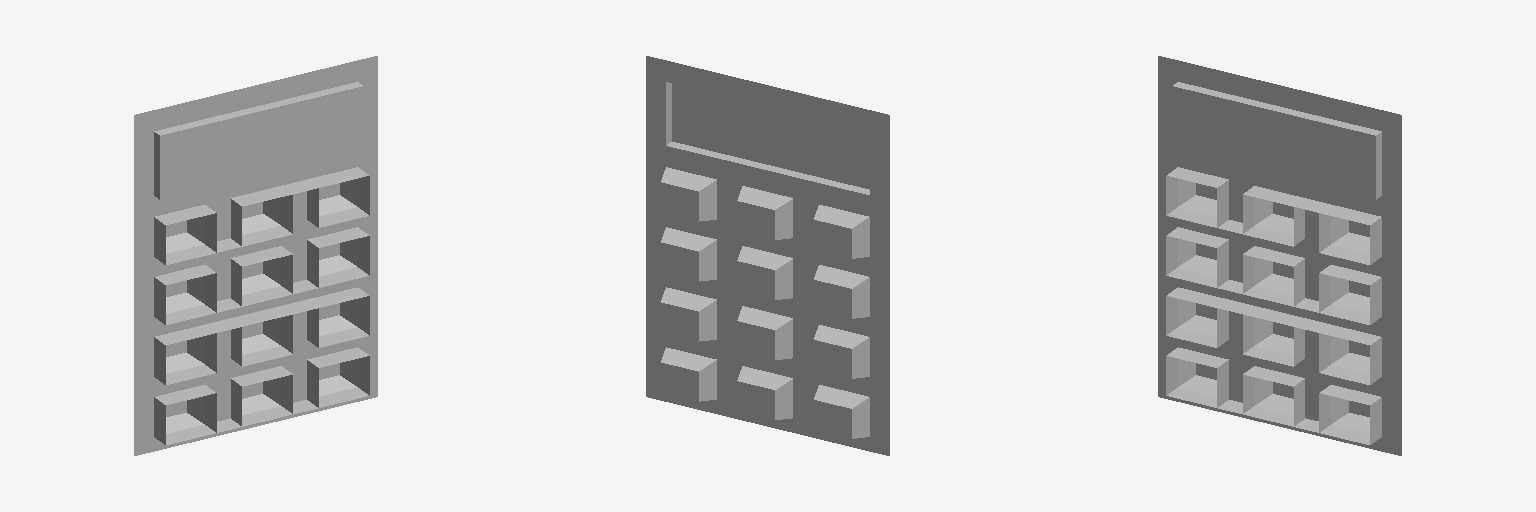
Rendered from keypad.obj.
3 renders of one model, left to right at view 1: azimuth 30°, elevation 25°; view 2: azimuth 150°, elevation 25°; view 3: azimuth 330°, elevation 25°, orthographic.
Visible parts, largest first — view 1: Keypad, Display, K3, K6, K9, KReturn, K7, K1, K5, K8, K0, KReset (+2 smaller); view 2: Keypad, Display, K1, K4, K7, KReset, K3, K6, K9, KReturn, K8, K0 (+2 smaller); view 3: Keypad, Display, K1, K4, K7, KReset, K9, K3, K5, K8, K0, KReturn (+2 smaller).
Boxes of the visible parts, box(x1,y1,x2,y2) form: Keypad: box(134, 56, 377, 455); Display: box(154, 82, 363, 199); K3: box(166, 216, 204, 253); K6: box(166, 276, 204, 313); K9: box(166, 336, 204, 373); KReturn: box(166, 396, 204, 433); K7: box(319, 299, 357, 336); K1: box(319, 179, 357, 215); K5: box(242, 258, 280, 294); K8: box(242, 318, 280, 354); K0: box(242, 378, 280, 414); KReset: box(319, 359, 357, 396); Keypad: box(646, 56, 889, 455); Display: box(666, 82, 869, 194); K1: box(661, 167, 716, 221); K4: box(661, 227, 716, 281); K7: box(661, 287, 716, 341); KReset: box(661, 347, 716, 401); K3: box(814, 205, 869, 258); K6: box(814, 265, 869, 318); K9: box(814, 325, 869, 378); KReturn: box(814, 385, 869, 438); K8: box(737, 306, 792, 359); K0: box(737, 366, 792, 419); Keypad: box(1158, 56, 1401, 455); Display: box(1172, 82, 1381, 199); K1: box(1331, 216, 1369, 253); K4: box(1331, 276, 1369, 313); K7: box(1331, 336, 1369, 373); KReset: box(1331, 396, 1369, 433); K9: box(1178, 299, 1216, 336); K3: box(1178, 179, 1216, 215); K5: box(1255, 258, 1293, 294); K8: box(1255, 318, 1293, 354); K0: box(1255, 378, 1293, 414); KReturn: box(1178, 359, 1216, 396).
Size of the model in its own units: 0.75 by 1 by 0.125.